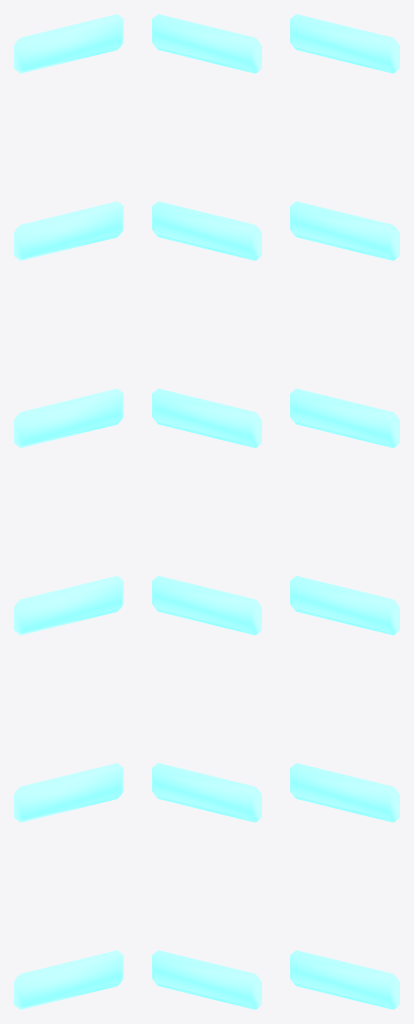
The model's file is Remache_Arnes_Neon.fbx.
The picture shows the model from 3 angles, left to right: view 1: azimuth 30°, elevation 25°; view 2: azimuth 150°, elevation 25°; view 3: azimuth 330°, elevation 25°; orthographic projection.
Visible parts, largest first — view 1: Remache_Arnes_Neon; view 2: Remache_Arnes_Neon; view 3: Remache_Arnes_Neon.
Boxes of the visible parts, bbox=[...] form: Remache_Arnes_Neon: bbox=[14, 14, 123, 1009]; Remache_Arnes_Neon: bbox=[152, 14, 261, 1009]; Remache_Arnes_Neon: bbox=[290, 14, 399, 1009].
Size of the model in its own units: 0.25 by 2.12 by 0.0286.
